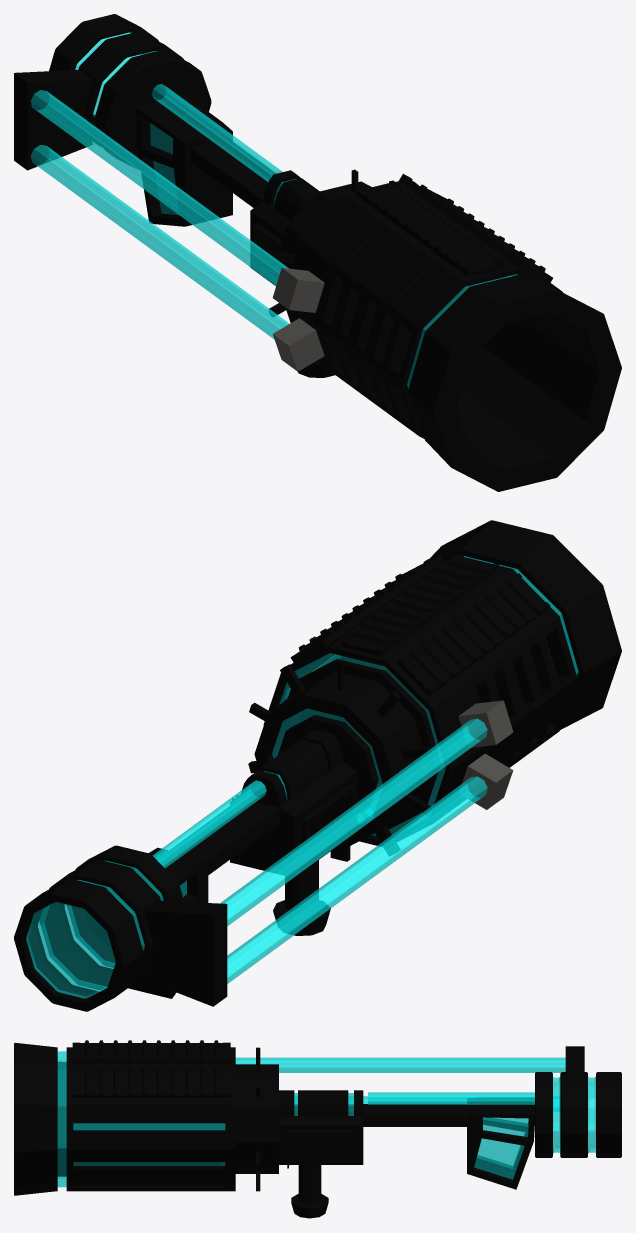
File: Boopgun.fbx
The picture shows the model from 3 angles, top to bottom: view 1: azimuth 30°, elevation 25°; view 2: azimuth 150°, elevation 25°; view 3: azimuth 270°, elevation 25°; orthographic projection. The views are drawn at different scales.
Visible parts, largest first — view 1: pCube15, polySurface1, pCylinder5, pCylinder6, pCube9, polySurface2, pCube8, pCube7; view 2: pCube15, polySurface1, pCylinder5, pCylinder6, pCube9, polySurface2, pCube8, pCube7; view 3: pCube15, polySurface1, pCylinder5, polySurface2, pCylinder6, pCube9.
Part boxes in pixels (bbox=[...]): pCube15: bbox=[136, 95, 621, 491]; polySurface1: bbox=[49, 14, 211, 170]; pCylinder5: bbox=[31, 90, 288, 285]; pCylinder6: bbox=[31, 145, 289, 339]; pCube9: bbox=[14, 70, 92, 170]; polySurface2: bbox=[152, 84, 282, 181]; pCube8: bbox=[273, 318, 324, 371]; pCube7: bbox=[272, 268, 324, 312]; pCube15: bbox=[105, 520, 621, 998]; polySurface1: bbox=[14, 845, 184, 1011]; pCylinder5: bbox=[220, 718, 487, 925]; pCylinder6: bbox=[227, 776, 487, 983]; pCube9: bbox=[144, 900, 227, 1006]; polySurface2: bbox=[152, 780, 266, 868]; pCube8: bbox=[459, 753, 513, 809]; pCube7: bbox=[458, 700, 513, 747]; pCube15: bbox=[14, 1040, 534, 1218]; polySurface1: bbox=[535, 1072, 621, 1157]; pCylinder5: bbox=[235, 1057, 565, 1072]; polySurface2: bbox=[368, 1092, 534, 1104]; pCylinder6: bbox=[295, 1096, 559, 1110]; pCube9: bbox=[565, 1046, 584, 1071].
Bounding box in the file's own units: 2.5 × 2.59 × 8.89.
